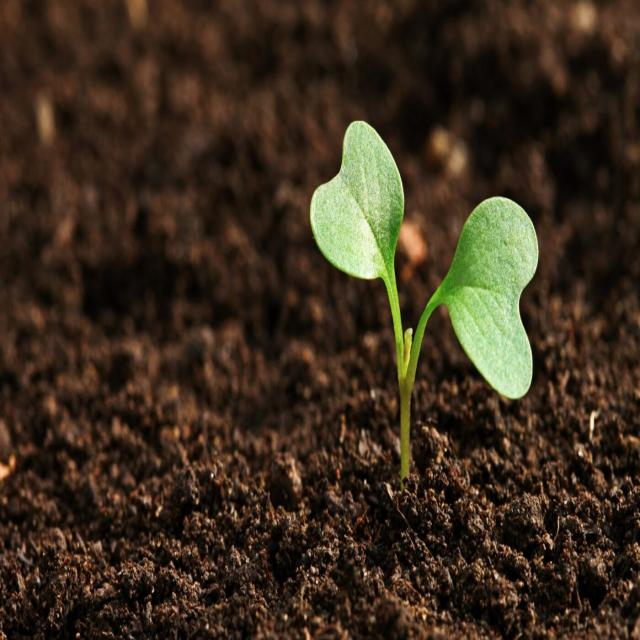suelo_humedo: (134, 506, 621, 608)
